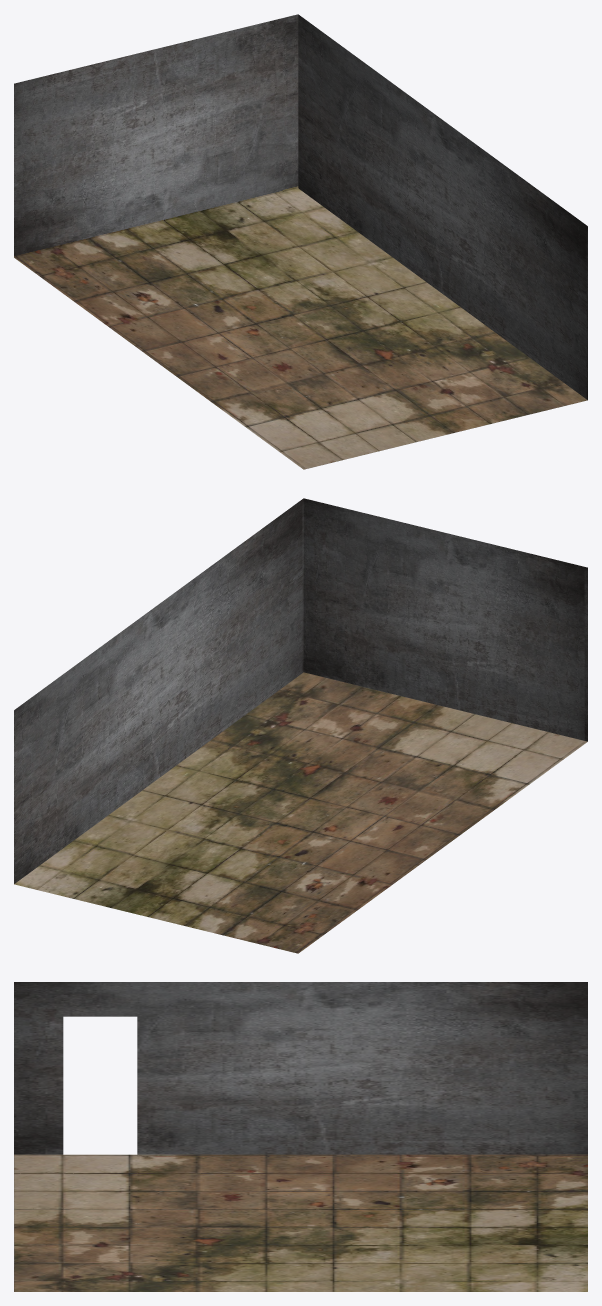
Rendered from AutopsyRoom1.glb.
3 renders of one model, top to bottom at view 1: azimuth 30°, elevation 25°; view 2: azimuth 150°, elevation 25°; view 3: azimuth 270°, elevation 25°, orthographic.
Visible parts, largest first — view 1: pCube1; view 2: pCube1; view 3: pCube1.
Part boxes in pixels (bbox=[...]): pCube1: bbox=[14, 14, 587, 469]; pCube1: bbox=[14, 498, 587, 953]; pCube1: bbox=[14, 982, 587, 1291].
Bounding box in the file's own units: 1 × 0.5851 × 1.77.
Materials: 1 (1 with a texture image).
